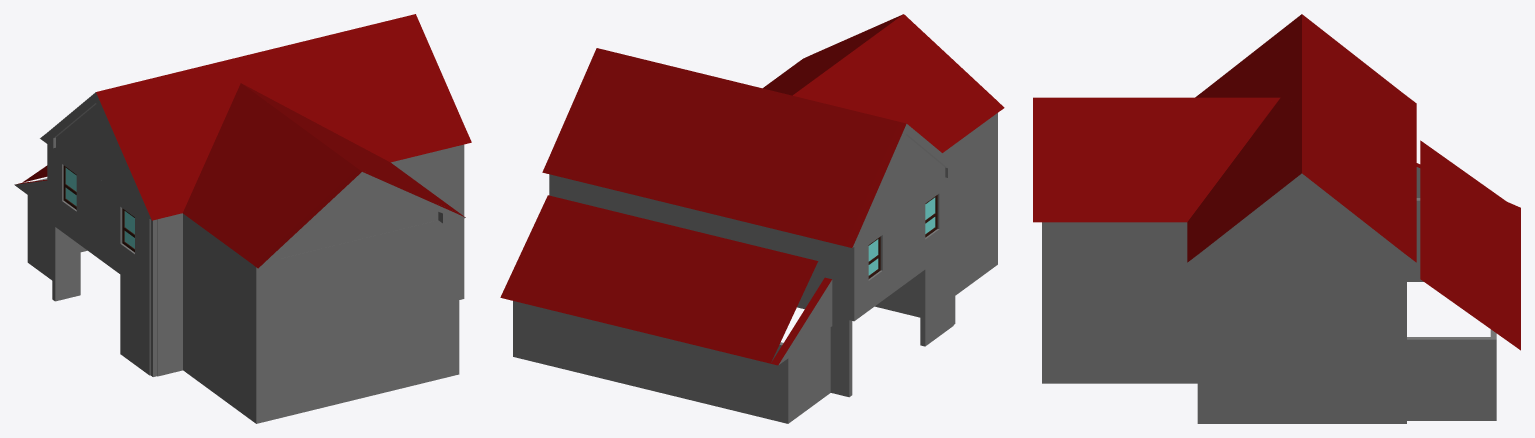
Rendered from maisonteste.fbx.
The picture shows the model from 3 angles, left to right: view 1: azimuth 30°, elevation 25°; view 2: azimuth 150°, elevation 25°; view 3: azimuth 270°, elevation 25°; orthographic projection. The views are drawn at different scales.
Visible parts, largest first — view 1: Plane178, Plane280, Plane293, Plane291, Plane179, Plane290, Plane247, Plane240, Plane238, Plane245, Plane239, Plane246 (+28 smaller); view 2: Plane175, Plane174, Plane173, Plane222, Plane273, Plane272, Plane271, Plane291, Plane274, Plane290, Plane255, Plane254 (+26 smaller); view 3: Plane270, Plane268, Plane258, Plane129, Plane128, Plane127, Plane126, Plane241, Plane248, Plane294, Plane295, Plane242 (+23 smaller).
Part boxes in pixels (box(x1,y1,x2,y2)): Plane178: box(332, 16, 463, 162); Plane280: box(103, 71, 212, 218); Plane293: box(254, 168, 465, 268); Plane291: box(210, 136, 357, 264); Plane179: box(256, 34, 386, 160); Plane290: box(183, 104, 313, 232); Plane247: box(307, 234, 383, 331); Plane240: box(307, 313, 383, 411); Plane238: box(383, 295, 459, 392); Plane245: box(383, 219, 459, 313); Plane239: box(253, 332, 306, 423); Plane246: box(253, 252, 306, 344); Plane175: box(550, 49, 677, 192); Plane174: box(624, 68, 751, 210); Plane173: box(697, 86, 824, 228); Plane222: box(771, 103, 898, 246); Plane273: box(500, 195, 621, 315); Plane272: box(574, 213, 695, 333); Plane271: box(648, 231, 768, 351); Plane291: box(857, 17, 999, 141); Plane274: box(721, 249, 818, 363); Plane290: box(814, 48, 957, 152); Plane255: box(586, 319, 660, 392); Plane254: box(660, 337, 733, 410); Plane270: box(1042, 97, 1131, 222); Plane268: box(1131, 97, 1221, 222); Plane258: box(1407, 337, 1496, 420); Plane129: box(1197, 342, 1287, 423); Plane128: box(1197, 261, 1287, 342); Plane127: box(1317, 342, 1406, 423); Plane126: box(1317, 261, 1406, 342); Plane241: box(1107, 302, 1191, 383); Plane248: box(1107, 222, 1191, 302); Plane294: box(1187, 170, 1301, 262); Plane295: box(1302, 170, 1416, 262); Plane242: box(1048, 302, 1107, 383).
Size of the model in its own units: 1261 by 930 by 1632.
